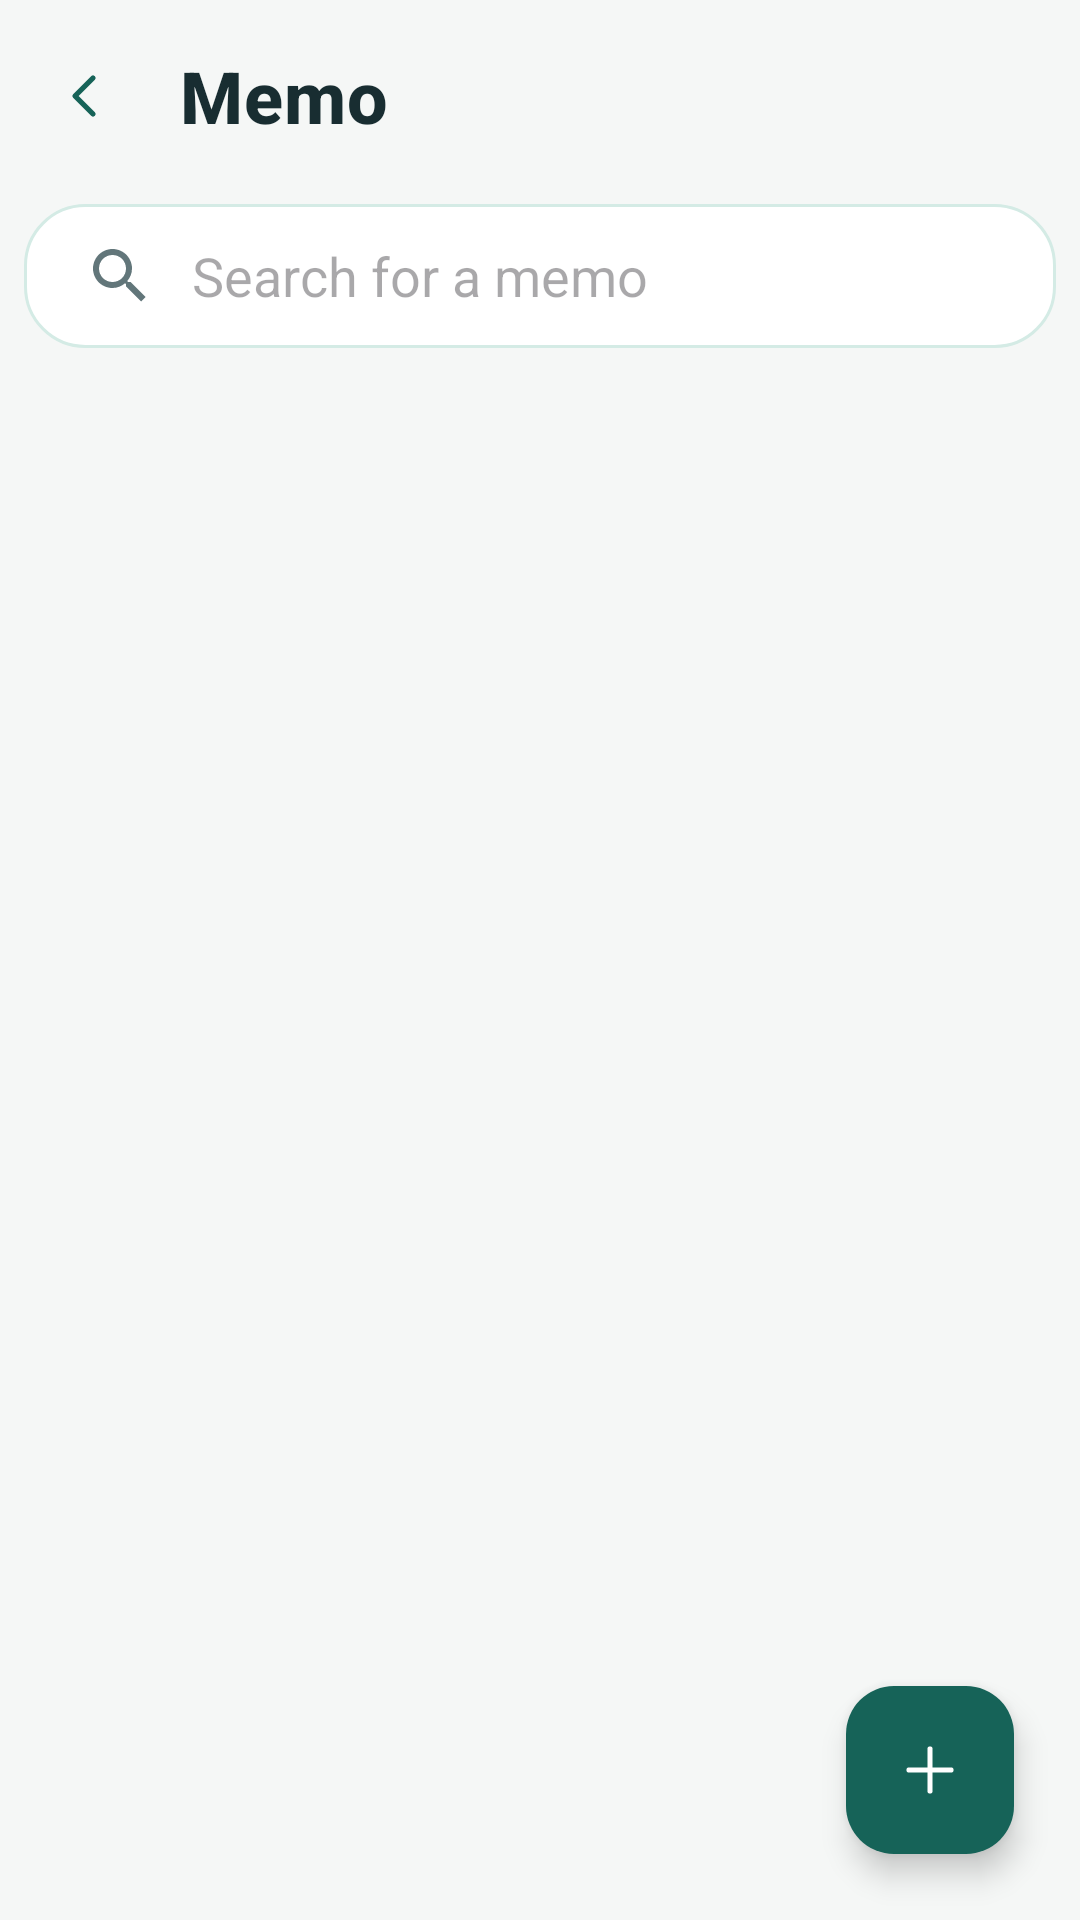

Screen size 1080px x 1920px. Icon name, then its center in pixels as [x,y]:
Add a memo: [930,1770]
